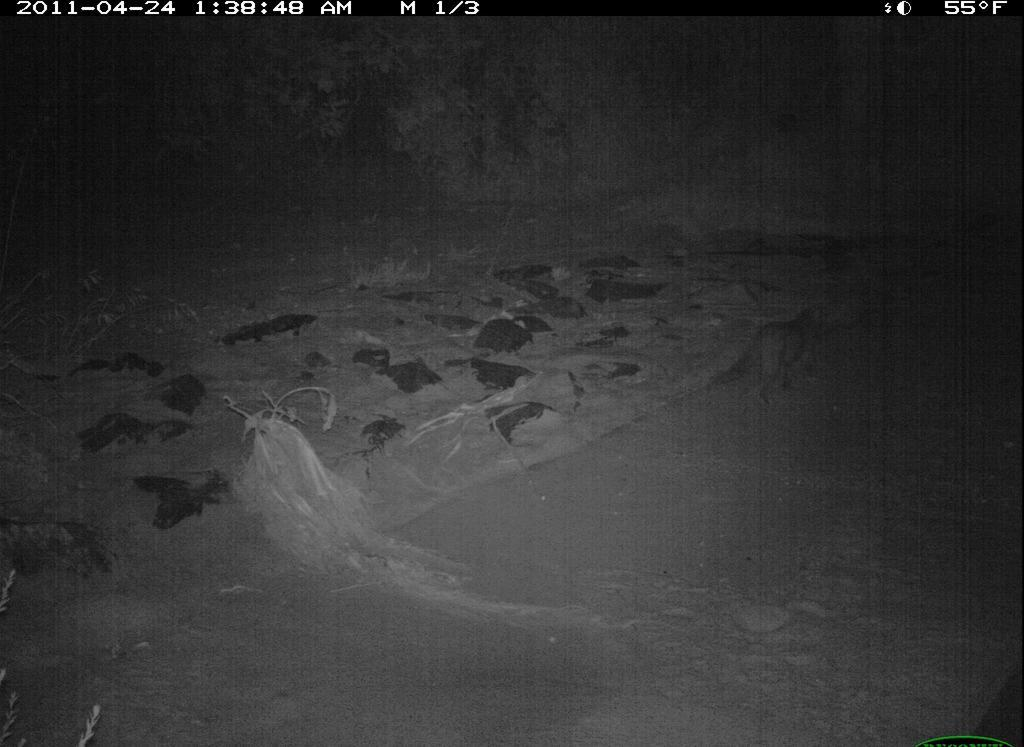cat: (726, 299, 831, 409)
